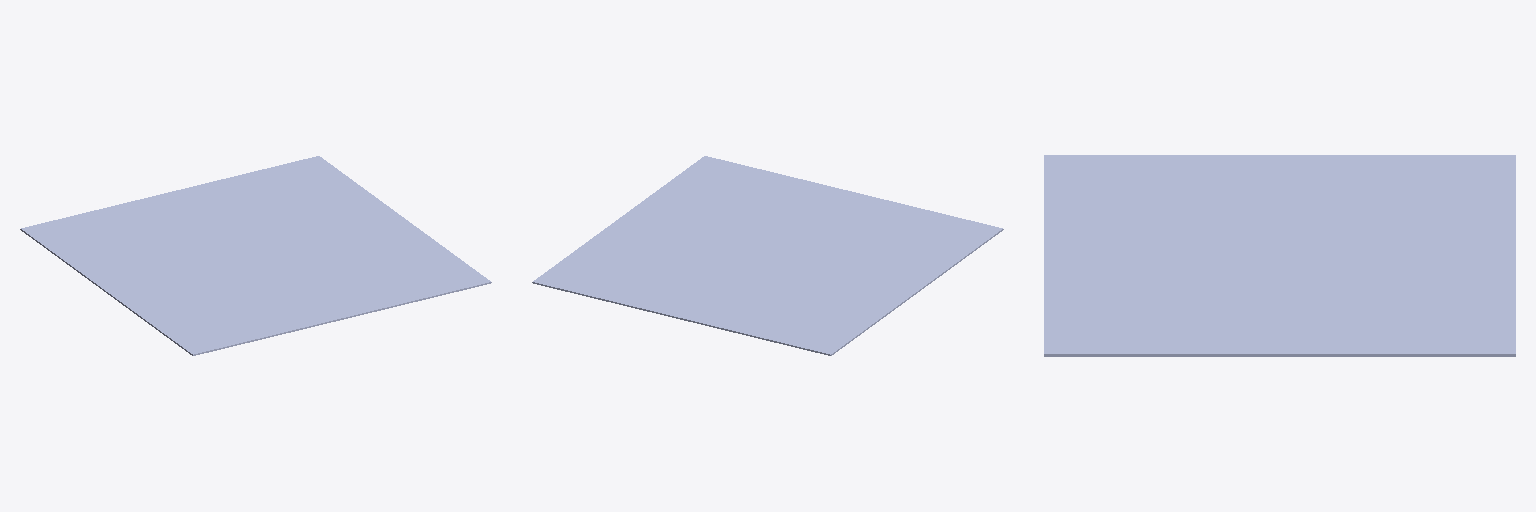
robot.urdf — floorassemblr1:
<?xml version="1.0" encoding="utf-8"?>
<!-- This URDF was automatically created by SolidWorks to URDF Exporter! Originally created by Stephen Brawner ([email redacted]) 
     Commit Version: 1.6.0-1-g15f4949  Build Version: 1.6.7594.29634
     For more information, please see http://wiki.ros.org/sw_urdf_exporter -->
<robot
  name="floorassemblr1">
  <link
    name="base_link">
    <inertial>
      <origin
        xyz="0.148588308492964 -1.66609995121903 0.932077952055182"
        rpy="0 0 0" />
      <mass
        value="40" />
      <inertia
        ixx="13.3336666666667"
        ixy="6.01370805005293E-17"
        ixz="-3.6822125440638E-33"
        iyy="3.33366666666667"
        iyz="8.16383825775689E-16"
        izz="16.6666666666667" />
    </inertial>
    <visual>
      <origin
        xyz="0 0 0"
        rpy="0 0 0" />
      <geometry>
        <mesh
          filename="package://floorassemblr1/meshes/base_link.STL" />
      </geometry>
      <material
        name="">
        <color
          rgba="0.796078431372549 0.823529411764706 0.937254901960784 1" />
      </material>
    </visual>
    <collision>
      <origin
        xyz="0 0 0"
        rpy="0 0 0" />
      <geometry>
        <mesh
          filename="package://floorassemblr1/meshes/base_link.STL" />
      </geometry>
    </collision>
  </link>
  <link
    name="fsdf">
    <inertial>
      <origin
        xyz="-0.5 0.005 2.22044604925031E-16"
        rpy="0 0 0" />
      <mass
        value="40" />
      <inertia
        ixx="13.3336666666667"
        ixy="0"
        ixz="-6.01370805005293E-17"
        iyy="16.6666666666667"
        iyz="-1.1612191474259E-34"
        izz="3.33366666666667" />
    </inertial>
    <visual>
      <origin
        xyz="0 0 0"
        rpy="0 0 0" />
      <geometry>
        <mesh
          filename="package://floorassemblr1/meshes/fsdf.STL" />
      </geometry>
      <material
        name="">
        <color
          rgba="0.796078431372549 0.823529411764706 0.937254901960784 1" />
      </material>
    </visual>
    <collision>
      <origin
        xyz="0 0 0"
        rpy="0 0 0" />
      <geometry>
        <mesh
          filename="package://floorassemblr1/meshes/fsdf.STL" />
      </geometry>
    </collision>
  </link>
  <joint
    name="sdfsdf"
    type="fixed">
    <origin
      xyz="0.64859 -1.6661 0.92708"
      rpy="1.5708 0 0" />
    <parent
      link="base_link" />
    <child
      link="fsdf" />
    <axis
      xyz="0 0 0" />
  </joint>
</robot>

--- Render facts (derived) ---
Views: 3 orthographic renders of the robot side by side, from view 1: azimuth 30°, elevation 25°; view 2: azimuth 150°, elevation 25°; view 3: azimuth 270°, elevation 25°.
Model floorassemblr1 with 2 links and 1 joints (1 fixed), rooted at base_link, posed every joint at zero.
Links seen in each view (by area): view 1: fsdf, base_link; view 2: fsdf, base_link; view 3: fsdf, base_link.
Boxes of the visible links, bbox=[...] form: fsdf: bbox=[21, 156, 490, 355]; base_link: bbox=[20, 229, 491, 355]; fsdf: bbox=[533, 183, 997, 355]; base_link: bbox=[532, 156, 1003, 355]; fsdf: bbox=[1044, 155, 1515, 356]; base_link: bbox=[1044, 155, 1151, 353].
Bounding box of the posed robot: 2 × 2 × 0.01 m (x, y, z).
Meshes: 2 distinct files referenced, 2 mesh visuals loaded (2 binary STL).
